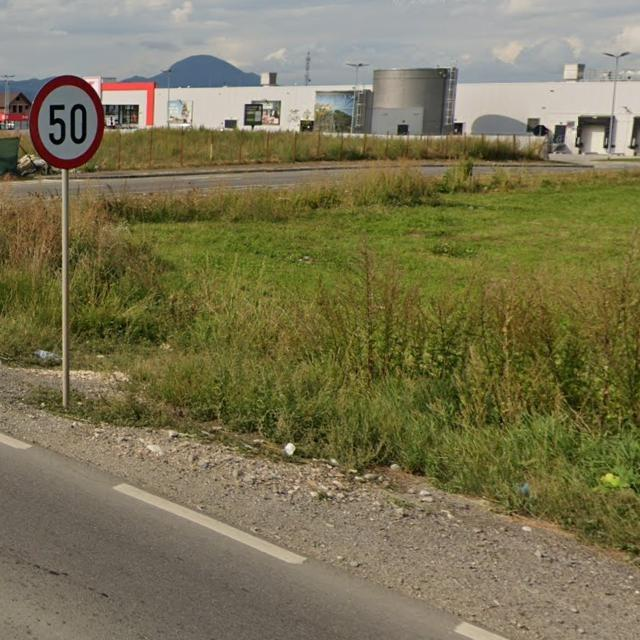forb_speed_over_50: (31, 74, 105, 169)
